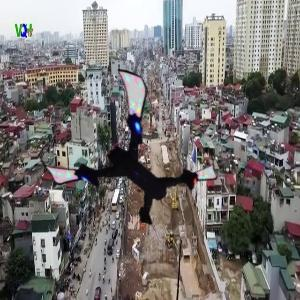drone: (48, 86, 201, 239)
